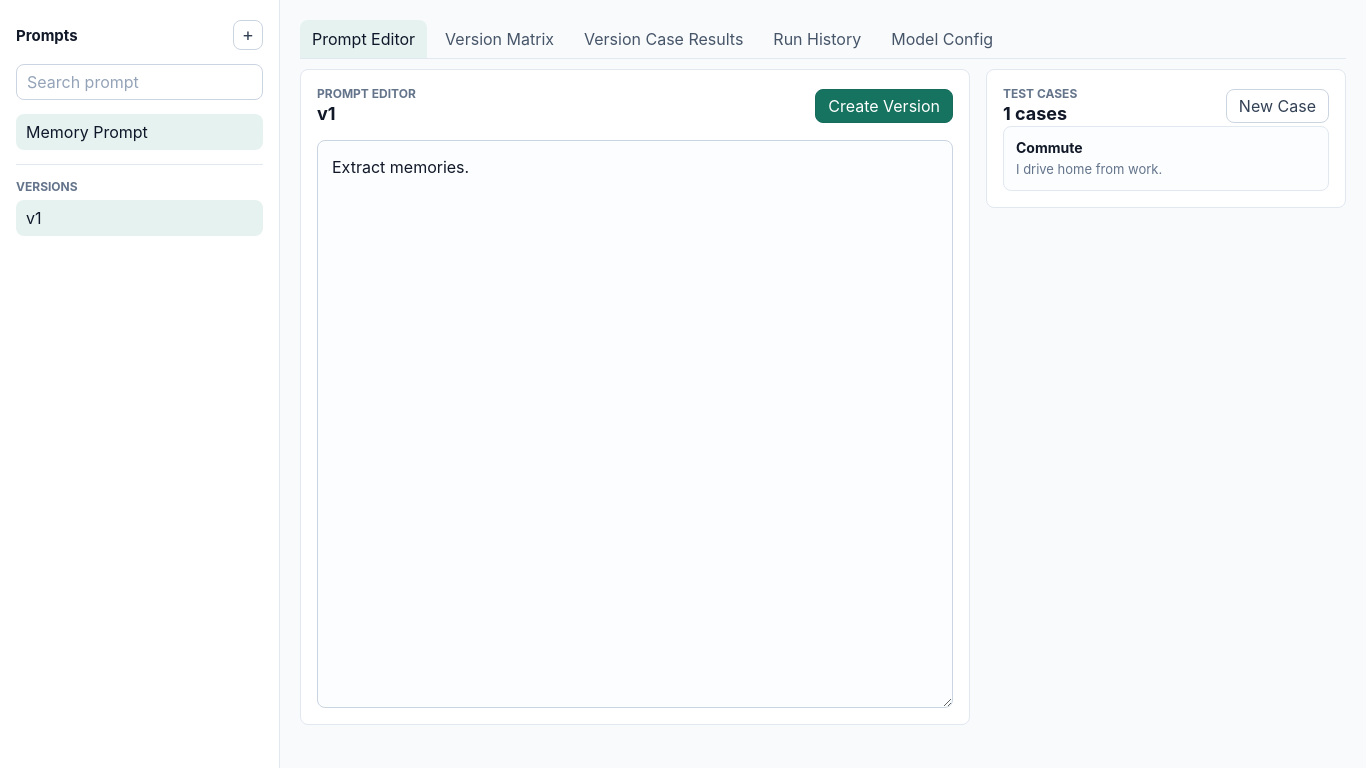
Test: App prompt creation › shows backend run errors by message instead of object text
Expected: the text "Commute" is shown, [1016, 138, 1082, 156]
Step 1. Click the button "Version Matrix" → [500, 39], box [433, 20, 566, 58]
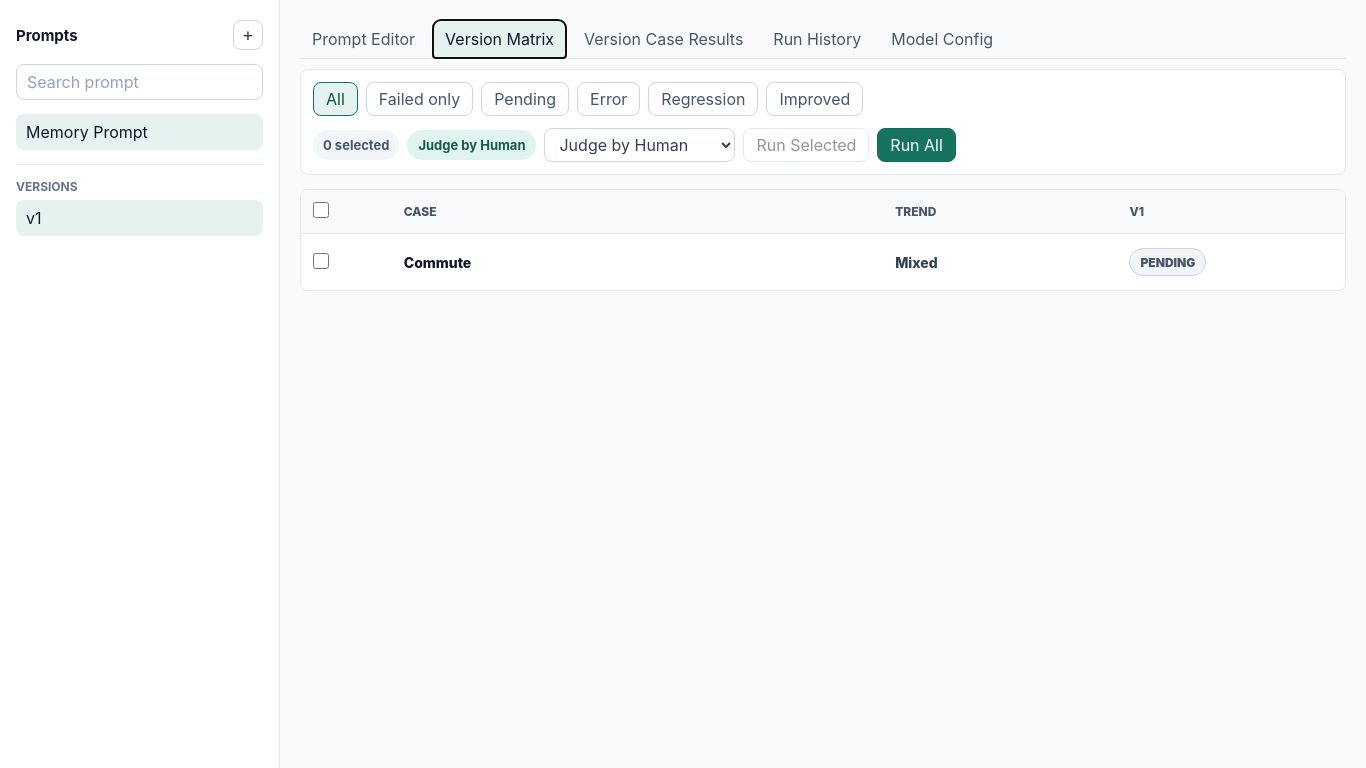
Step 2. Click the button "Run All" → [917, 145], box [877, 128, 956, 162]
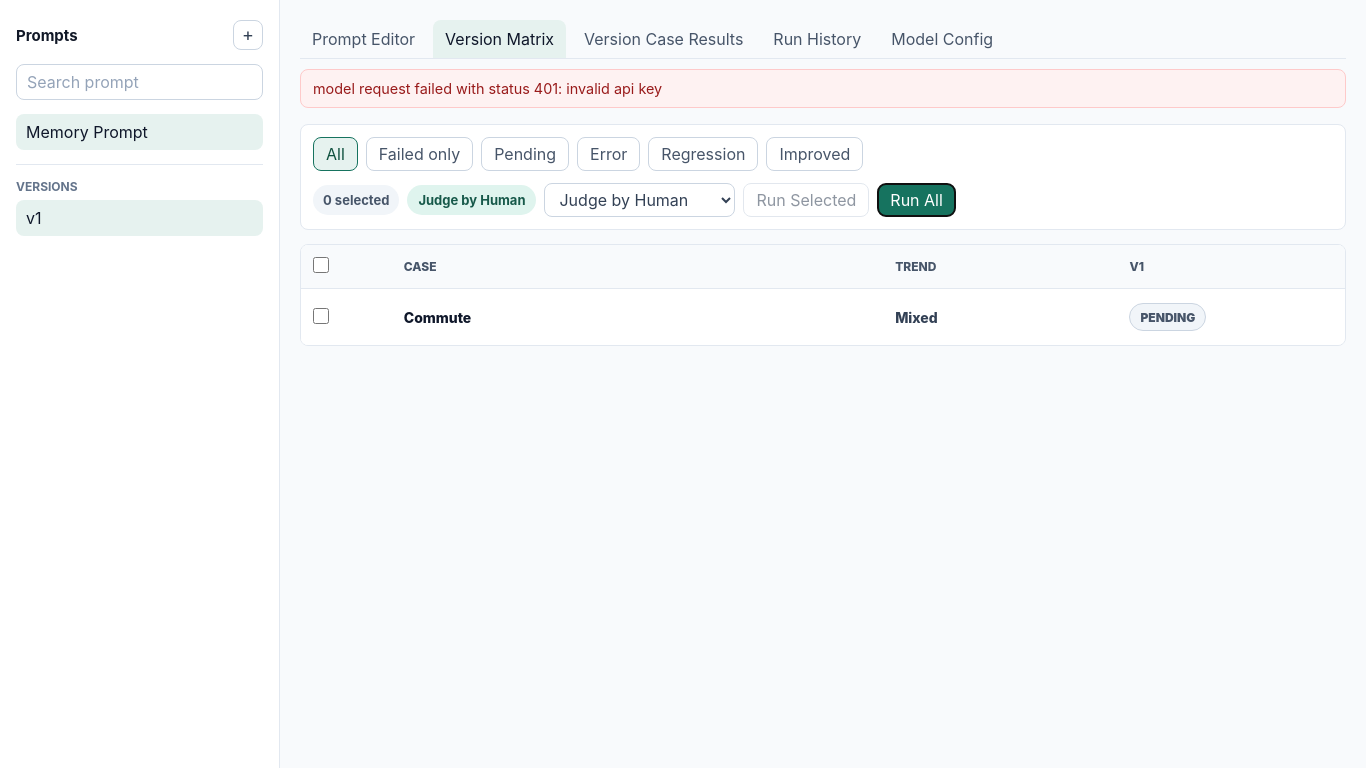
Now the text "model request failed with status 401: invalid api key" is shown, box [300, 69, 1346, 108]
